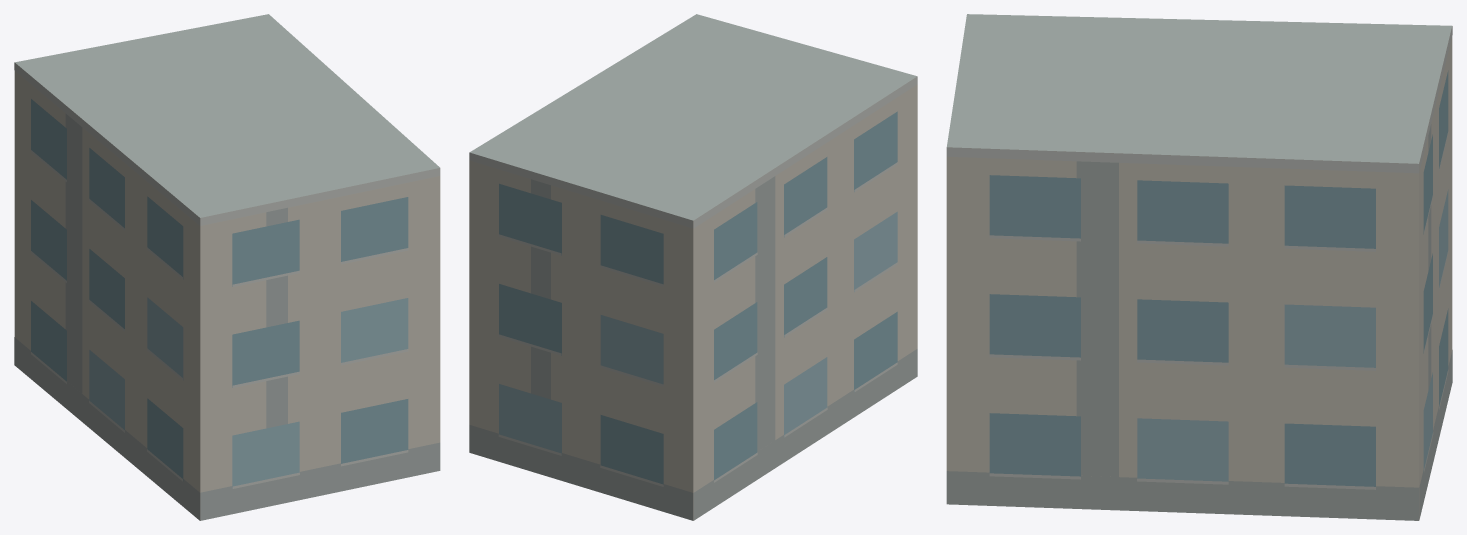
Rendered from survey-upis-32570541.glb.
The picture shows the model from 3 angles, left to right: view 1: azimuth 30°, elevation 25°; view 2: azimuth 150°, elevation 25°; view 3: azimuth 270°, elevation 25°; orthographic projection. The views are drawn at different scales.
Parts seen in each view (by area): view 1: survey-upis-32570541.tmp; view 2: survey-upis-32570541.tmp; view 3: survey-upis-32570541.tmp.
Part boxes in pixels (left/top/right/bottom): survey-upis-32570541.tmp: left=14, top=14, right=440, bottom=520; survey-upis-32570541.tmp: left=469, top=14, right=917, bottom=520; survey-upis-32570541.tmp: left=946, top=14, right=1452, bottom=520.
Bounding box in the file's own units: 8.24 × 9.15 × 11.75.
